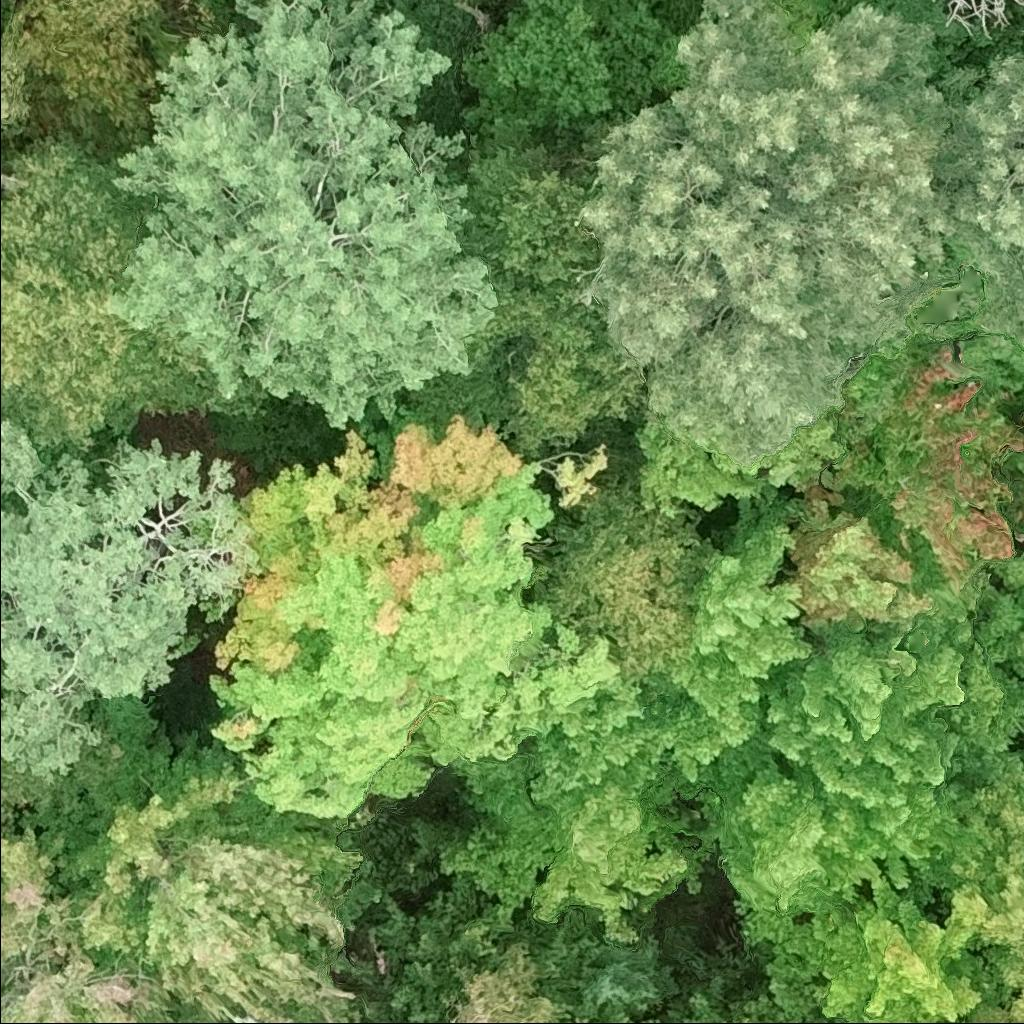crown: (574, 0, 981, 472), (100, 0, 501, 434), (206, 416, 635, 821), (0, 418, 262, 785), (58, 736, 371, 1023), (407, 112, 654, 450), (0, 128, 233, 454), (758, 623, 983, 892), (633, 489, 827, 782), (831, 335, 1023, 595), (697, 737, 888, 948), (530, 473, 715, 684), (0, 822, 186, 1023), (775, 878, 994, 1023), (930, 23, 1023, 345), (787, 463, 937, 637), (944, 755, 1023, 1004), (529, 684, 669, 801), (445, 935, 572, 1023), (960, 985, 1023, 1023), (0, 755, 31, 832), (0, 655, 7, 692)
